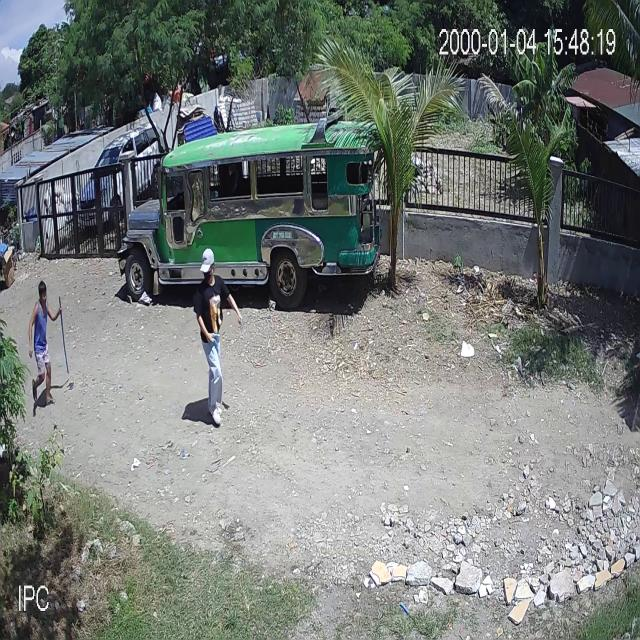running: (28, 280, 70, 408)
walking: (193, 250, 243, 426)
